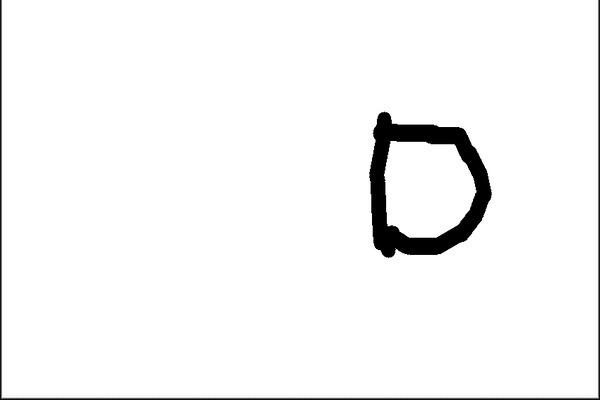D: (361, 107, 496, 261)
